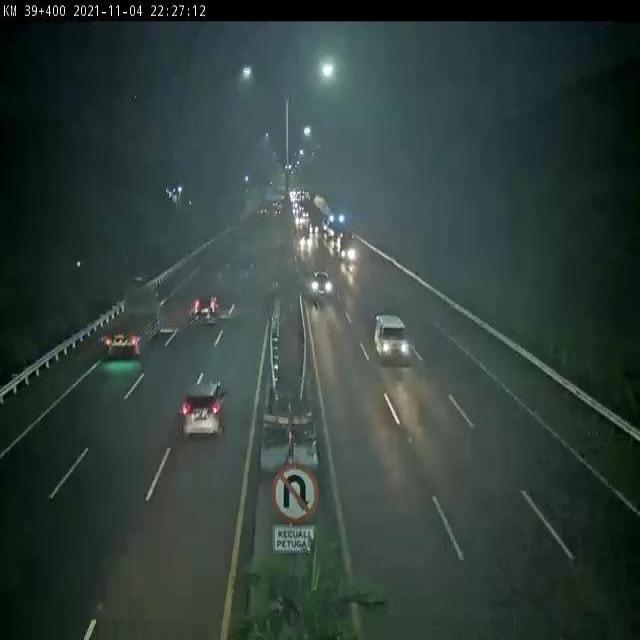car: (179, 376, 227, 439), (373, 309, 410, 362), (191, 292, 222, 328), (309, 267, 335, 301)
truck-m-: (100, 279, 168, 356)
